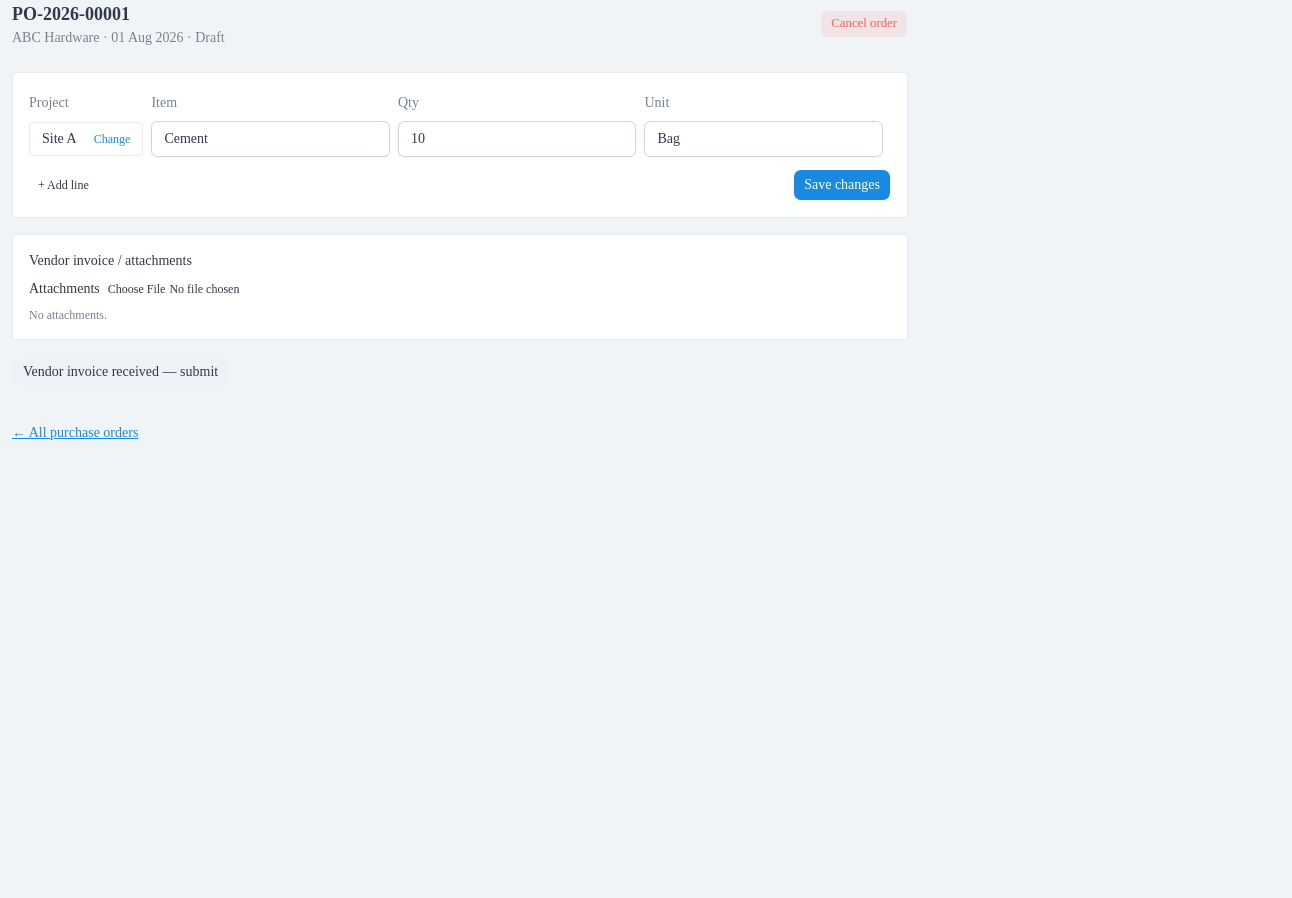
Test: PurchaseOrderDetailPage › Submit_AddsAnOtherChargeAndRoundOffToTheTotal
Click the button "Vendor invoice received — submit" at x=121, y=372, box [12, 356, 229, 388]
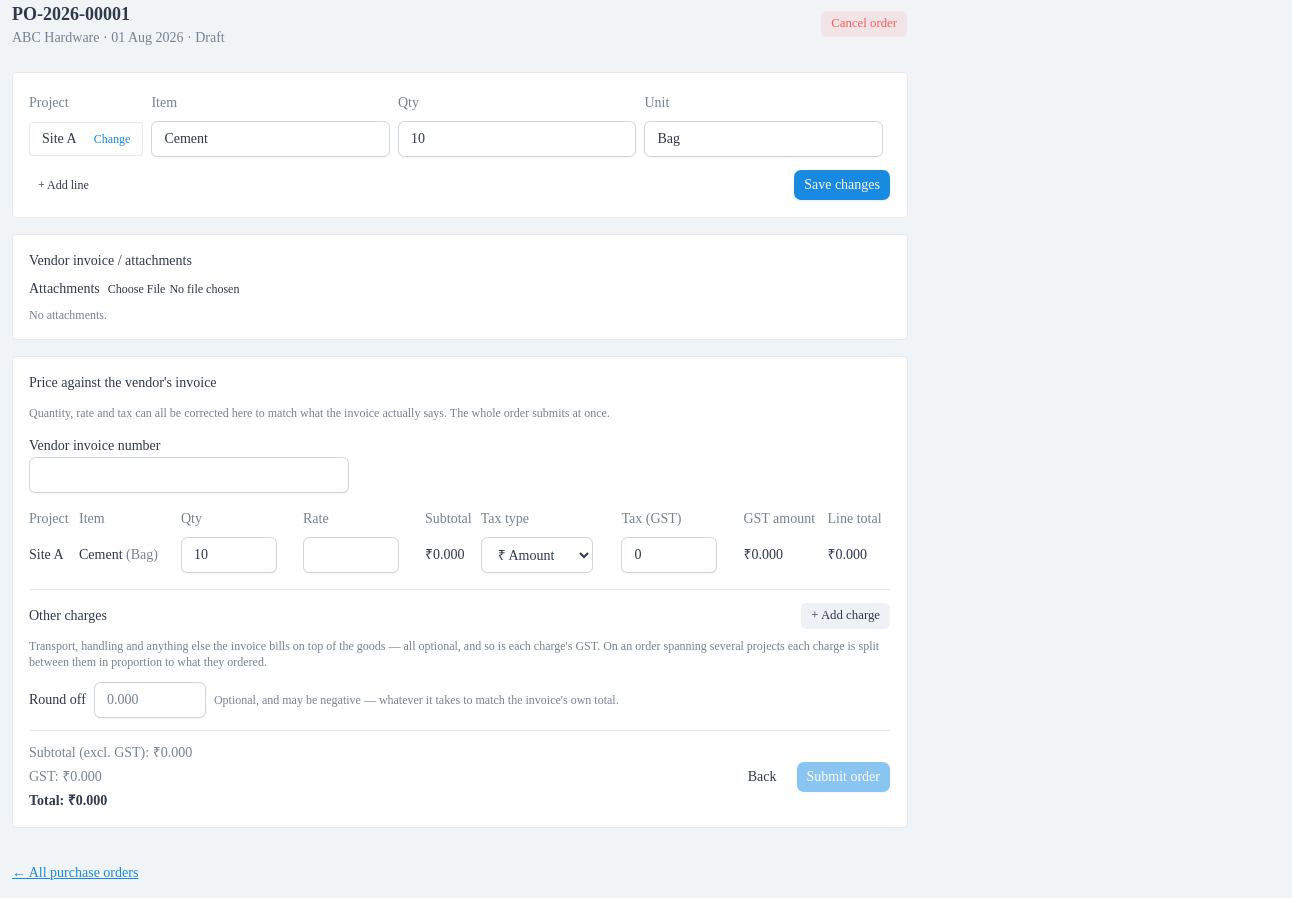
Type "400" into the field named "rate 1" at x=351, y=555, box [303, 537, 399, 573]
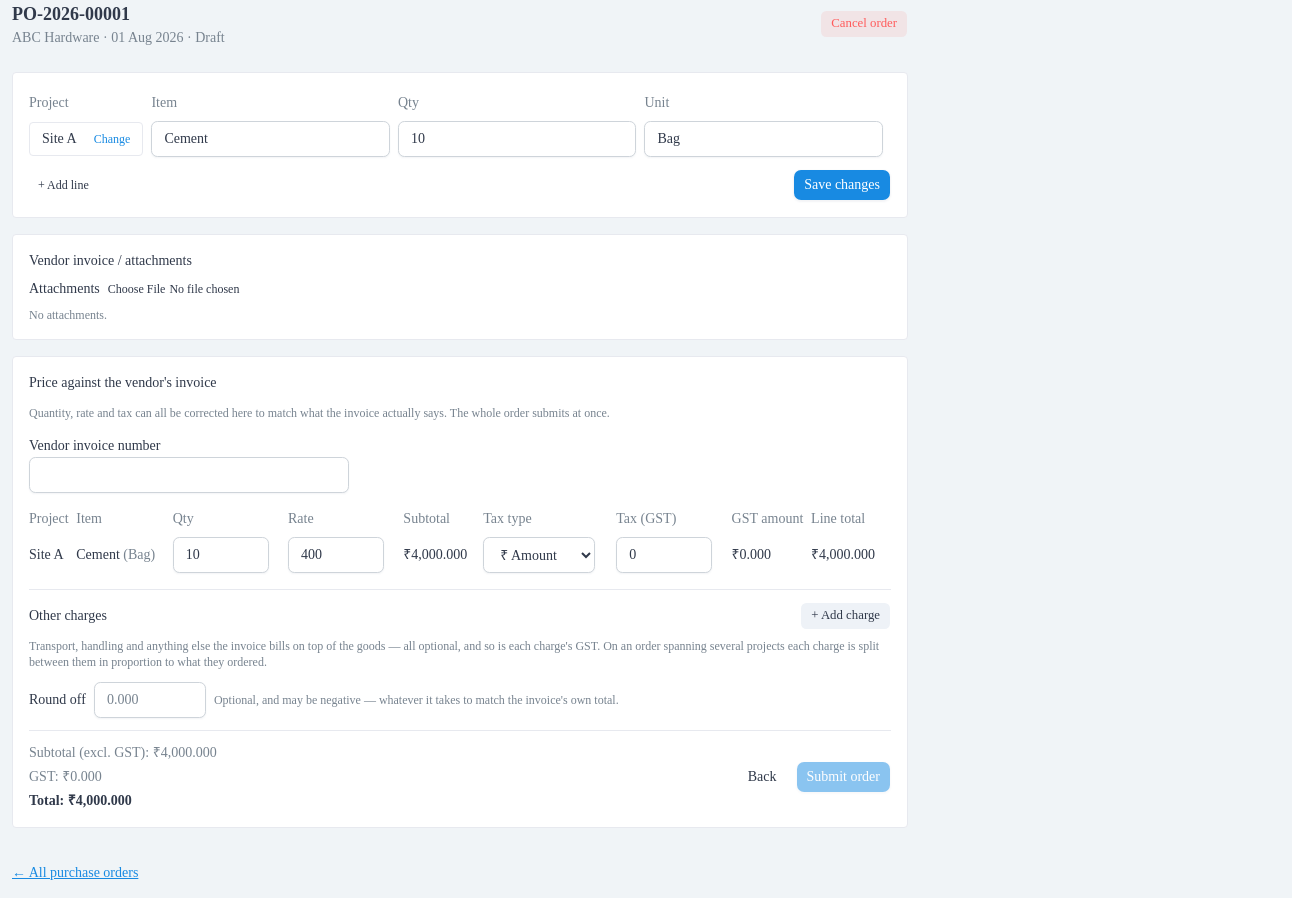
Now the text with test id "submit-total" shows "4,000", box [68, 793, 132, 808]
Click the button "+ Add charge" at x=846, y=616, box [800, 602, 891, 630]
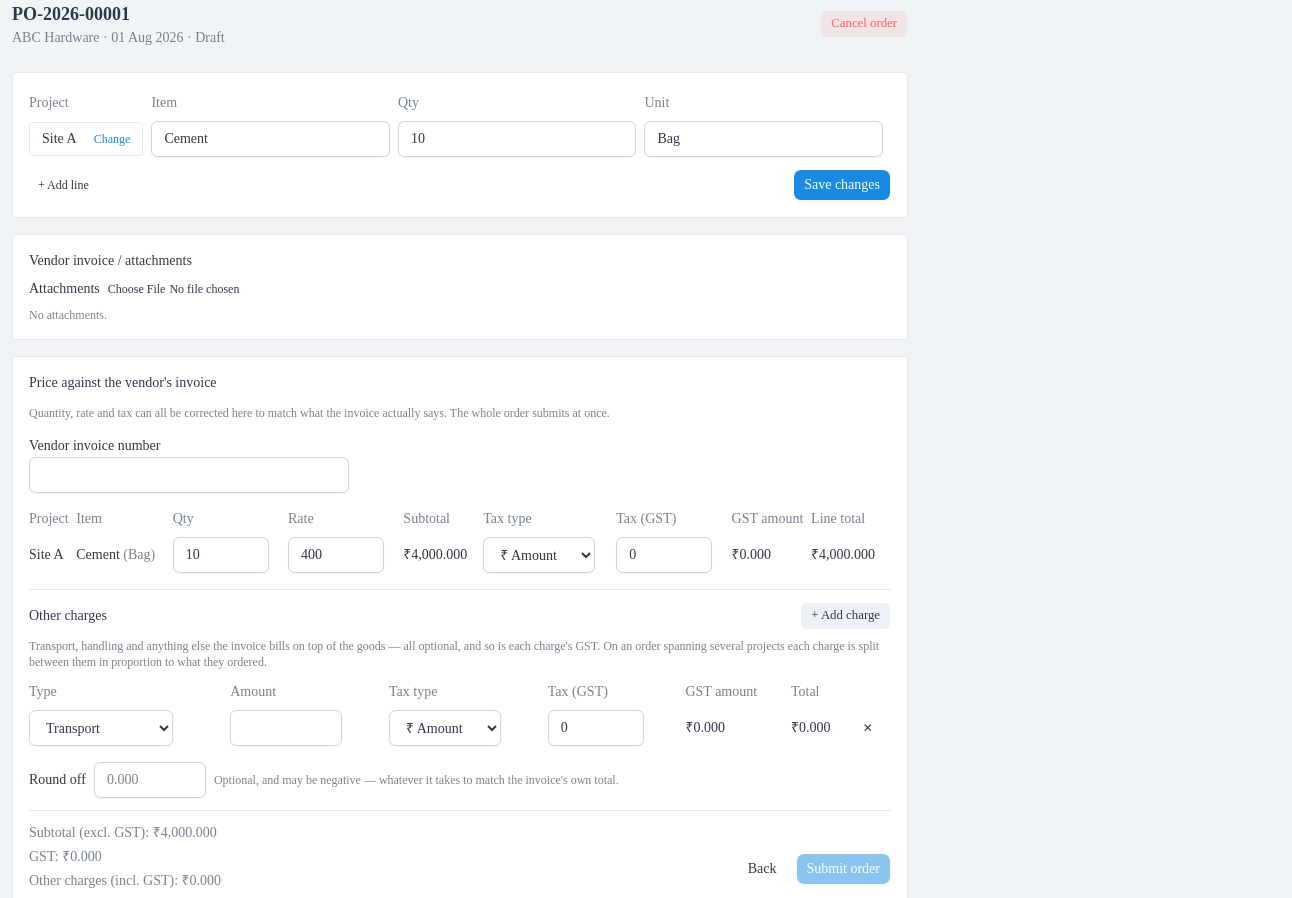
Type "500" into the field named "chargeAmount 1" at x=286, y=728, box [230, 710, 342, 746]
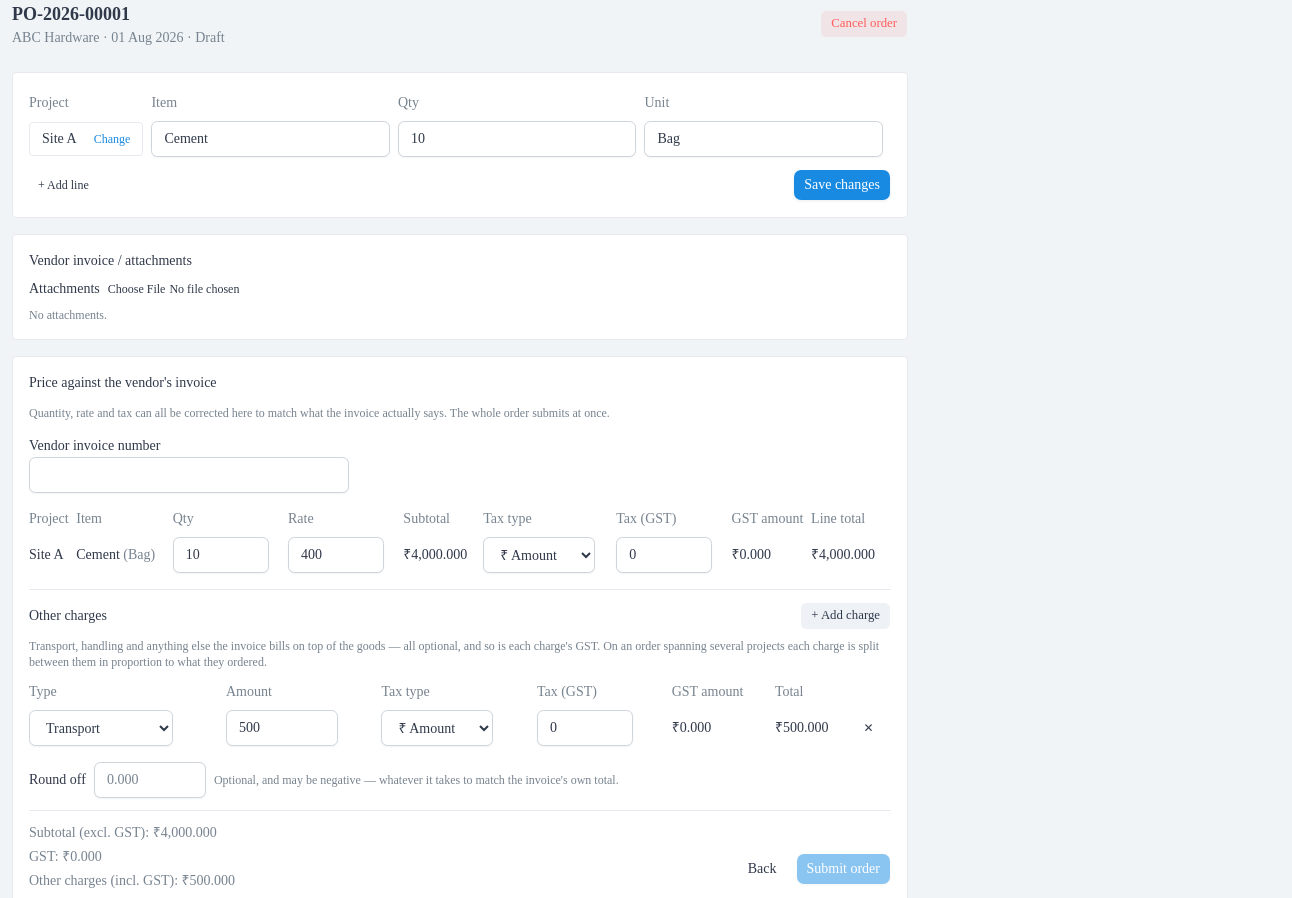
Select "% Percentage" in the dropdown named "chargeTaxType 1" at x=437, y=728, box [381, 710, 493, 746]
Replace the text in the field named "chargeTaxValue 1" with "18" at x=585, y=728, box [537, 710, 633, 746]
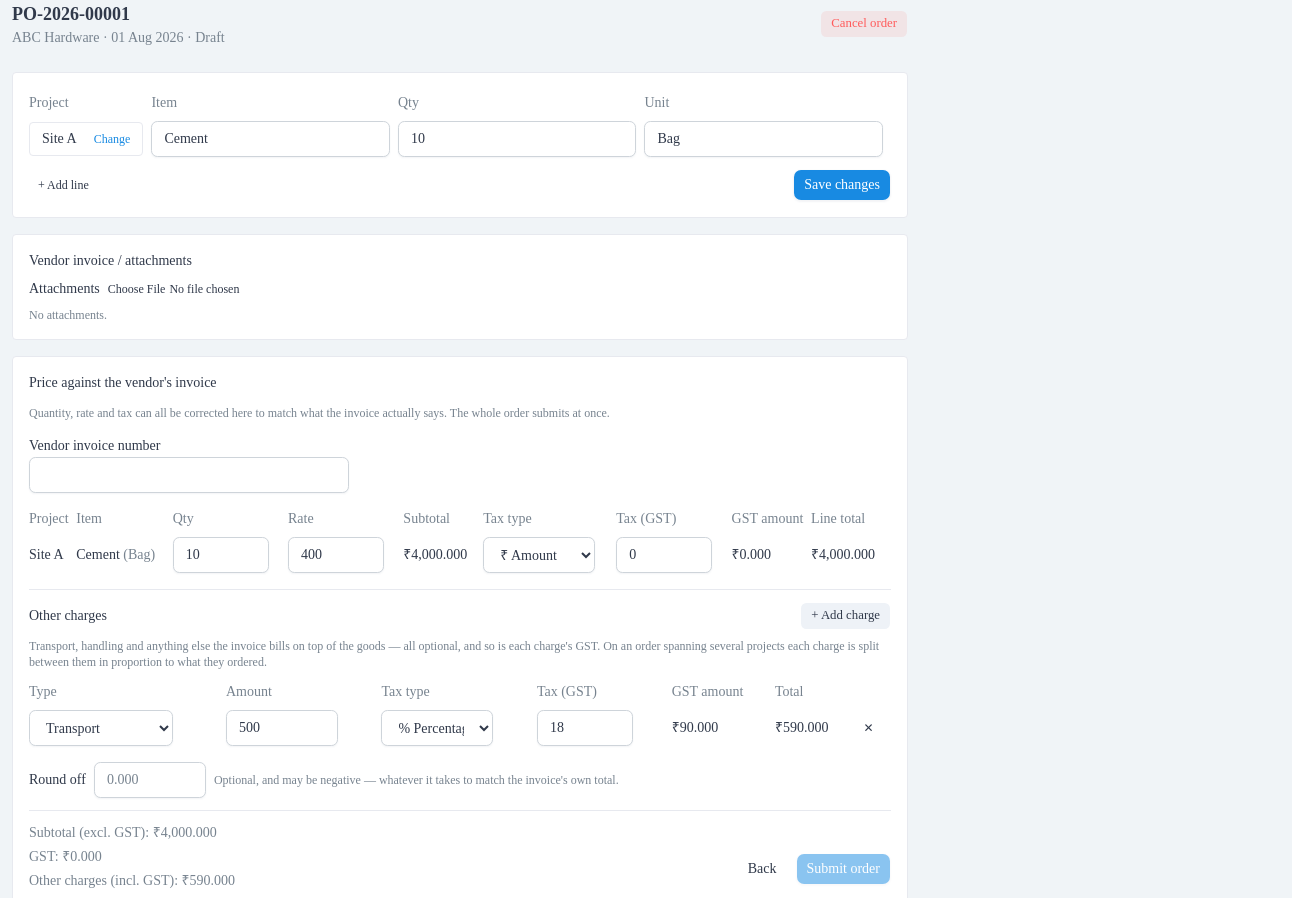
Now the text with test id "submit-charges-total" shows "590", box [182, 873, 235, 888]
Type "-0.4" into the field labelled "Round off" at x=150, y=780, box [94, 762, 206, 798]
(page scrolled)
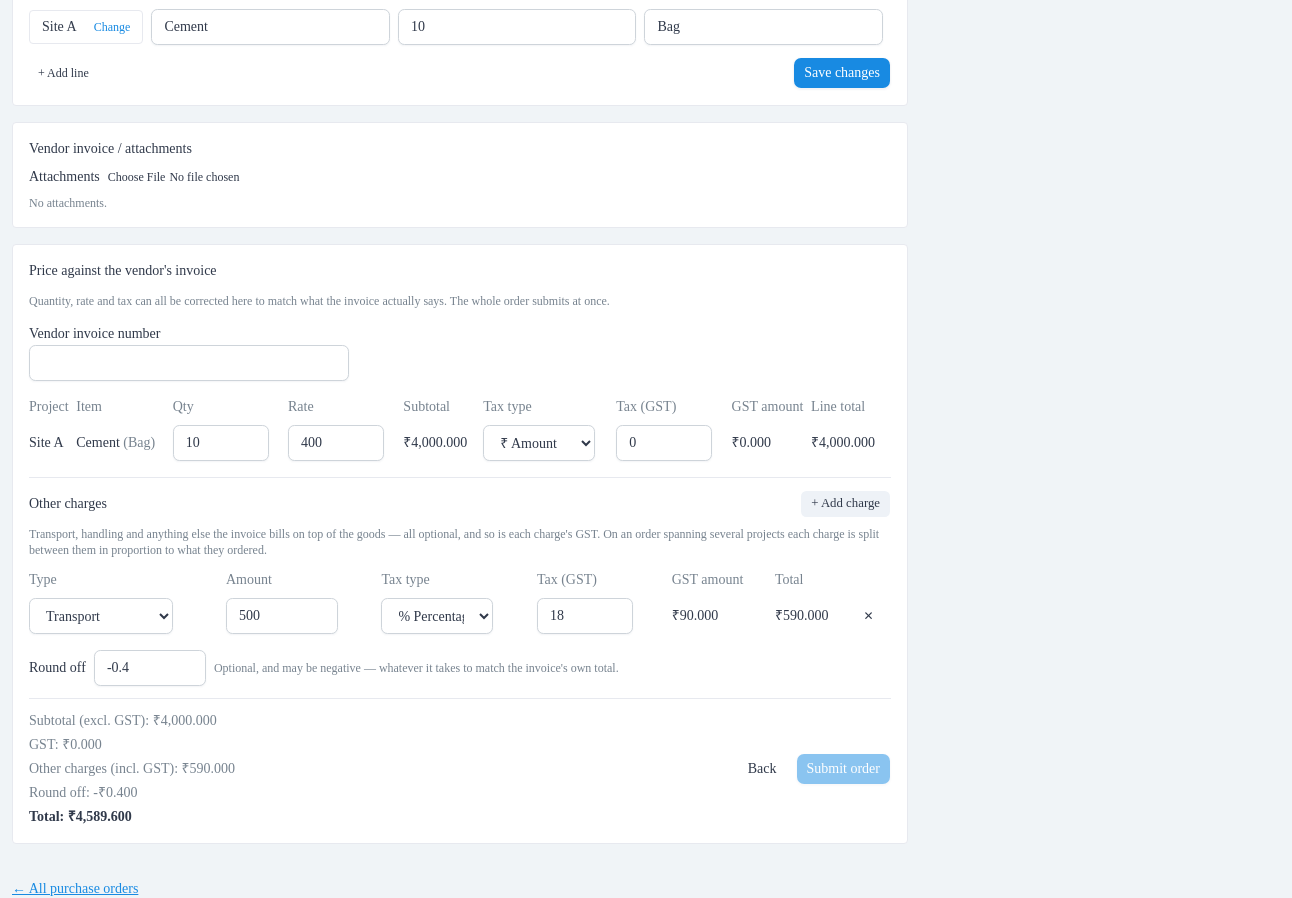
Now the text with test id "submit-total" shows "4,589.600", box [68, 809, 132, 824]
